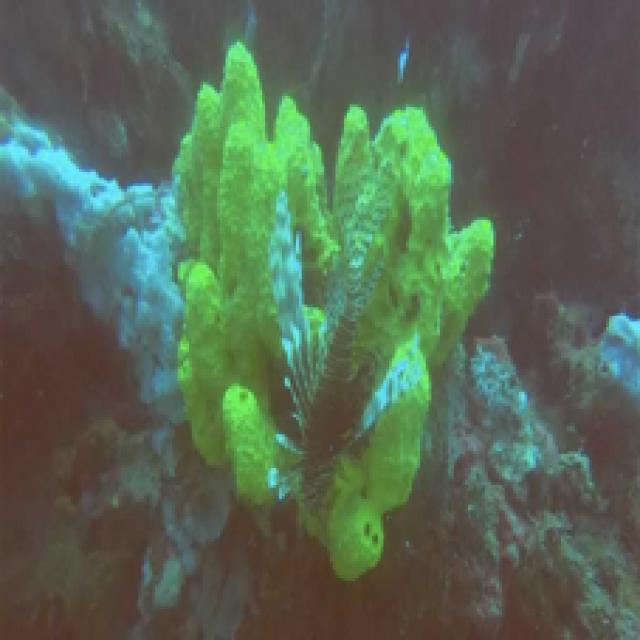Bleached: (1, 122, 181, 413)
Healthy: (176, 43, 492, 576)
